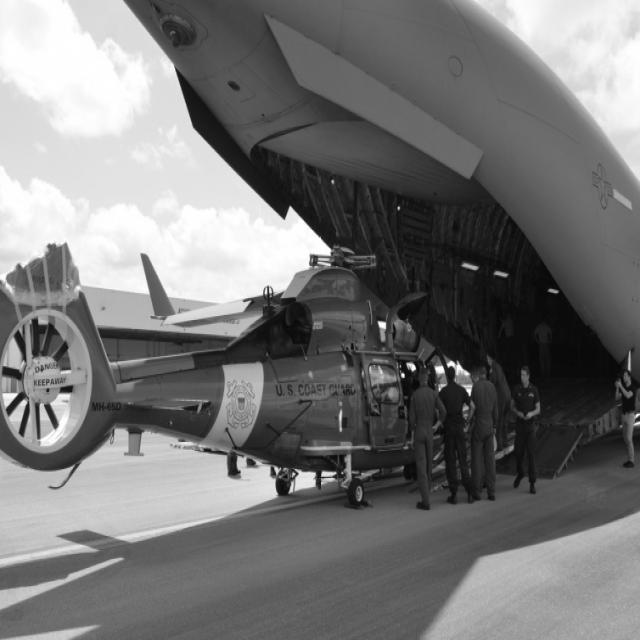helicopter: (1, 231, 472, 509)
